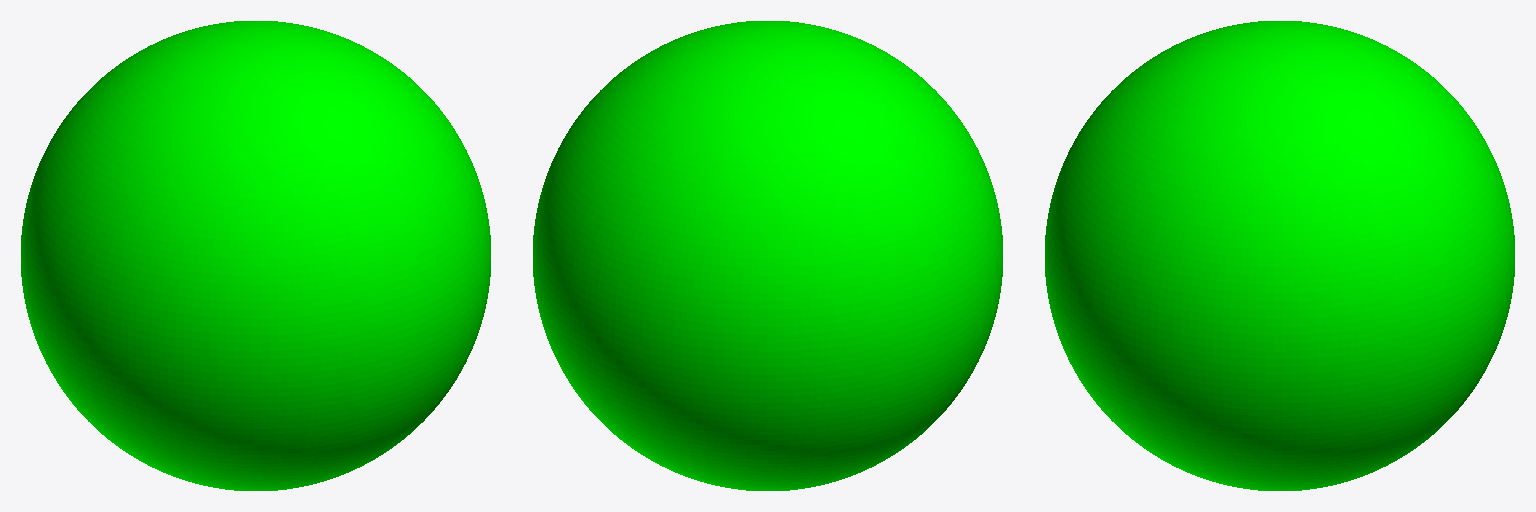
File: semaphore_green.obj
3 renders of one model, left to right at view 1: azimuth 30°, elevation 25°; view 2: azimuth 150°, elevation 25°; view 3: azimuth 270°, elevation 25°, orthographic.
Visible parts, largest first — view 1: tkSemaphore_Green; view 2: tkSemaphore_Green; view 3: tkSemaphore_Green.
Boxes of the visible parts, x1,y1,x2,y2 form: tkSemaphore_Green: [21, 21, 490, 490]; tkSemaphore_Green: [533, 21, 1002, 490]; tkSemaphore_Green: [1045, 21, 1514, 490].
Bounding box in the file's own units: 0.2 × 0.2 × 0.1999.